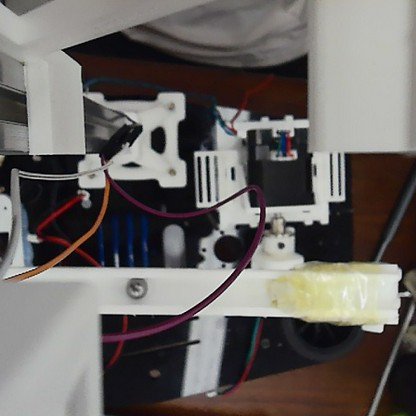ironball: (123, 275, 150, 299)
